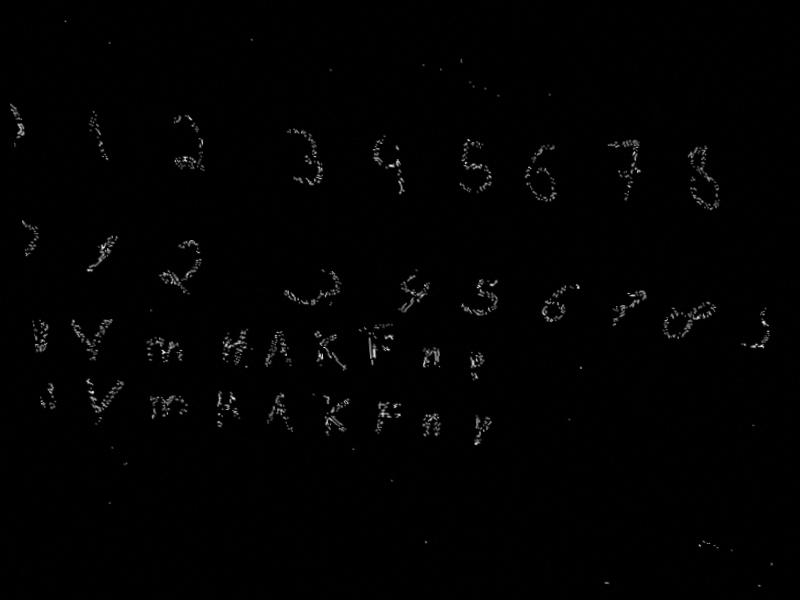0: (22, 215, 47, 272), (10, 99, 29, 154)
1: (74, 227, 126, 277), (80, 106, 112, 163)
2: (152, 237, 209, 299), (165, 109, 213, 177)
3: (278, 262, 347, 310), (279, 124, 329, 188)
4: (365, 133, 411, 199), (388, 267, 438, 315)
5: (449, 136, 498, 198), (455, 275, 505, 318)
6: (516, 139, 566, 207), (535, 279, 587, 328)
7: (597, 135, 651, 204), (603, 285, 652, 331)
8: (653, 287, 723, 346), (678, 141, 729, 215)
9: (731, 300, 772, 356), (749, 149, 758, 216)
A: (261, 327, 295, 370), (263, 390, 295, 435)
F: (370, 399, 407, 439), (364, 329, 399, 371)
H: (218, 325, 254, 369), (212, 387, 242, 429)
V: (80, 375, 132, 430), (66, 315, 119, 364)
k: (309, 328, 350, 373), (318, 391, 356, 439)
m: (140, 335, 188, 370), (146, 392, 193, 425)
n: (417, 411, 443, 440), (419, 344, 444, 374)
p: (469, 412, 495, 450), (465, 349, 489, 384)
u: (32, 316, 57, 367), (38, 378, 62, 413)
